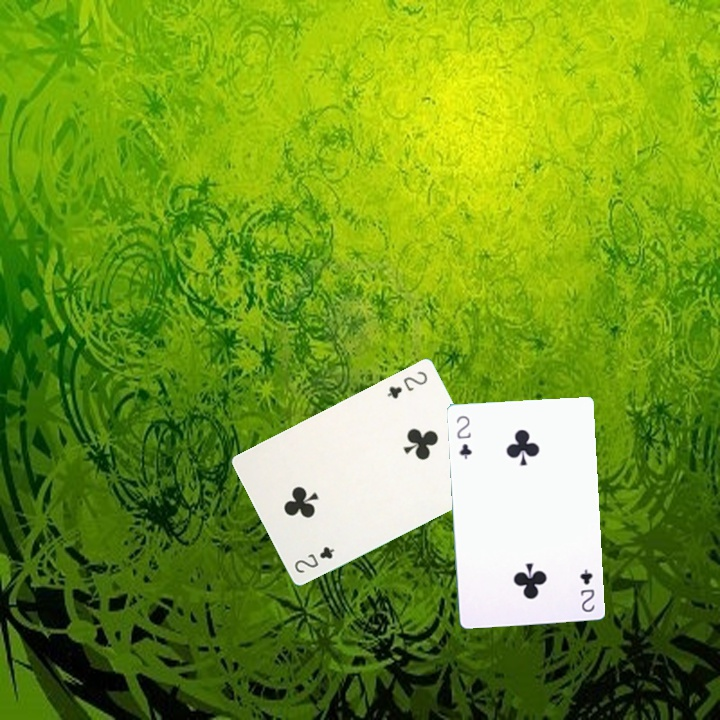2c: (383, 367, 430, 401), (290, 542, 337, 576), (452, 412, 474, 461), (576, 565, 597, 614)
